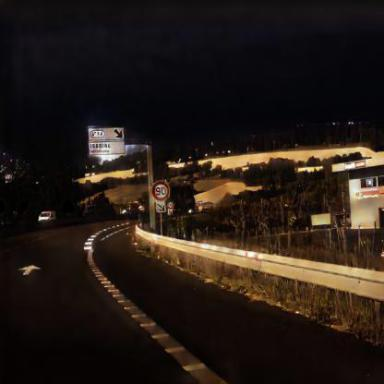Speed_limit_90: (152, 181, 171, 201)
